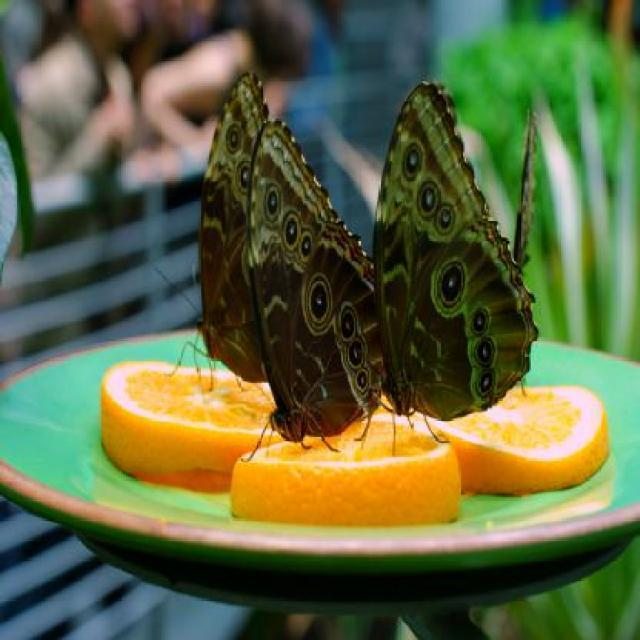Orange: (231, 419, 460, 533), (378, 388, 611, 494), (100, 360, 282, 480)
